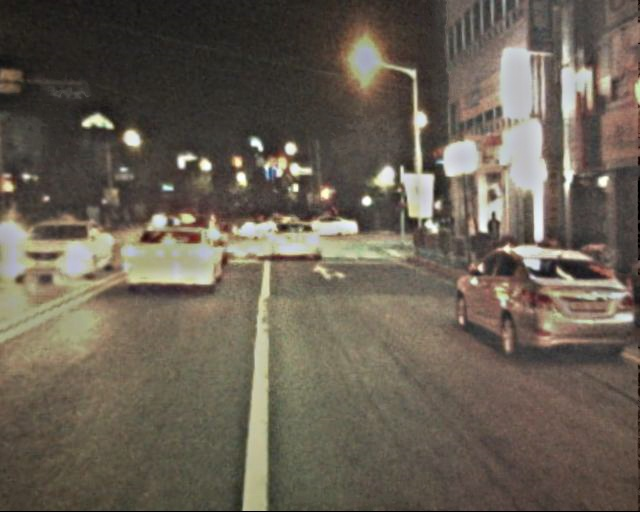person: (486, 211, 508, 265), (102, 204, 139, 230), (464, 213, 482, 256)
